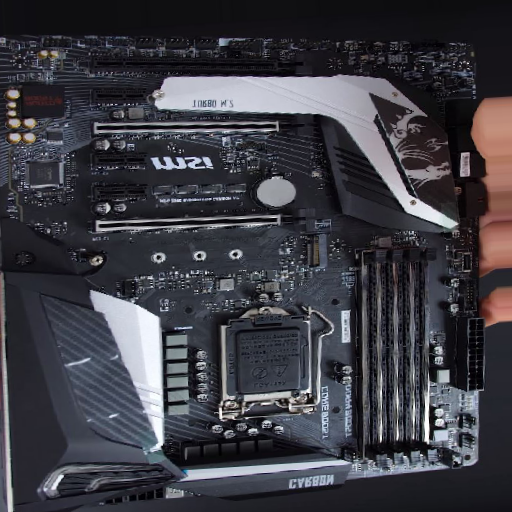CPU: (217, 305, 317, 411)
GPU: (91, 113, 316, 141), (91, 208, 318, 235), (87, 53, 311, 80)
MOTHERBOARD: (3, 24, 487, 503)
RAM: (358, 245, 441, 470)
SSD: (305, 233, 327, 271)
